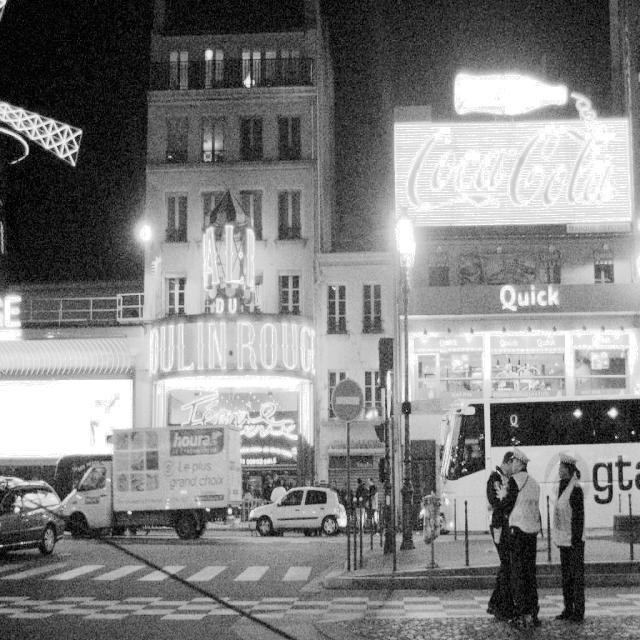Bus: (431, 376, 640, 565)
Car: (65, 413, 251, 545), (254, 435, 347, 560), (0, 455, 73, 565)
Person: (547, 428, 621, 638), (505, 444, 554, 638)
